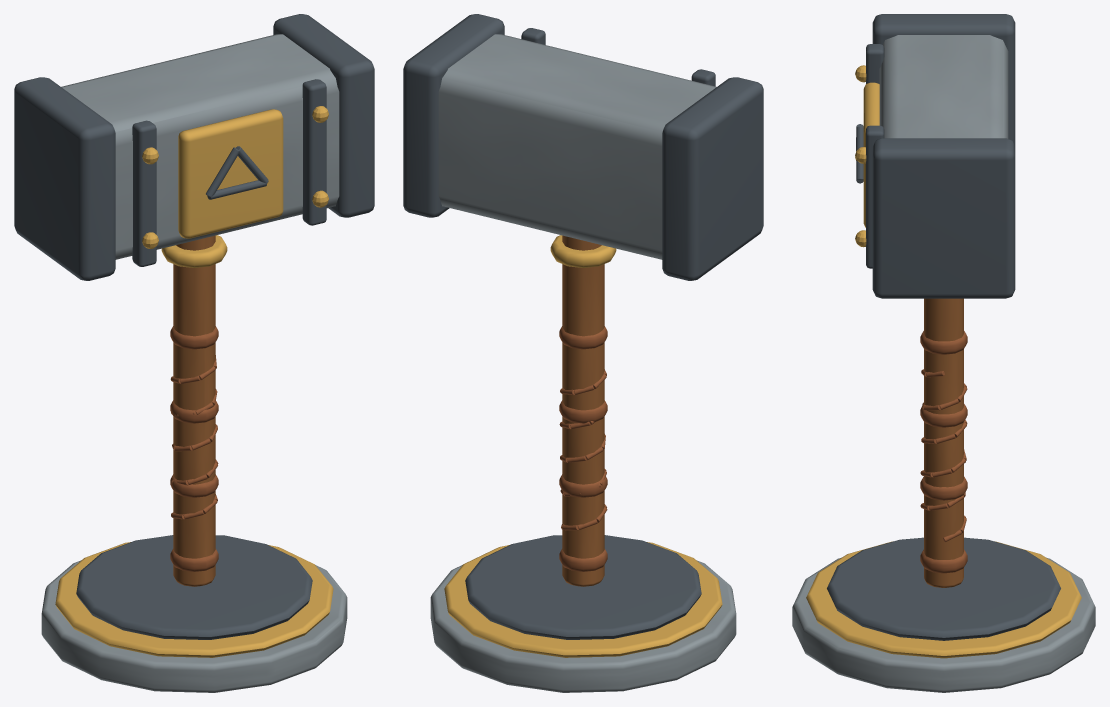
The model's file is kar-hammer.glb.
The picture shows the model from 3 angles, left to right: view 1: azimuth 30°, elevation 25°; view 2: azimuth 150°, elevation 25°; view 3: azimuth 270°, elevation 25°; orthographic projection.
Parts seen in each view (by area): view 1: Hammer / broad mountain stone, Display / raised inset.004, Hammer / dark iron cap, Display / stone base.004, Grip / central shaft.002, Hammer / gold central mount, Hammer / dark iron cap.001, Display / bronze rim.004, Hammer / reinforced iron strap.001, Hammer / reinforced iron strap, Binding / collar.021, Binding / collar.017 (+3 smaller); view 2: Hammer / broad mountain stone, Display / raised inset.004, Hammer / dark iron cap, Display / stone base.004, Grip / central shaft.002, Hammer / dark iron cap.001, Display / bronze rim.004, Binding / collar.021, Binding / collar.017, Binding / collar.020, Binding / collar.019, Binding / collar.018; view 3: Hammer / dark iron cap.001, Display / raised inset.004, Hammer / broad mountain stone, Display / stone base.004, Grip / central shaft.002, Display / bronze rim.004, Hammer / dark iron cap, Hammer / reinforced iron strap.001, Hammer / gold central mount, Binding / collar.020, Binding / collar.017, Binding / collar.018 (+2 smaller).
Part boxes in pixels (left/top/right/bottom): Hammer / broad mountain stone: left=61, top=34, right=339, bottom=259; Display / raised inset.004: left=76, top=535, right=312, bottom=639; Hammer / dark iron cap: left=14, top=77, right=115, bottom=280; Display / stone base.004: left=41, top=560, right=347, bottom=692; Grip / central shaft.002: left=173, top=235, right=215, bottom=586; Hammer / gold central mount: left=178, top=109, right=283, bottom=238; Hammer / dark iron cap.001: left=273, top=14, right=374, bottom=217; Display / bronze rim.004: left=55, top=542, right=333, bottom=657; Hammer / reinforced iron strap.001: left=302, top=79, right=326, bottom=225; Hammer / reinforced iron strap: left=132, top=120, right=156, bottom=266; Binding / collar.021: left=161, top=235, right=227, bottom=267; Binding / collar.017: left=170, top=549, right=218, bottom=571; Hammer / broad mountain stone: left=438, top=34, right=716, bottom=259; Display / raised inset.004: left=465, top=535, right=701, bottom=639; Hammer / dark iron cap: left=662, top=77, right=763, bottom=280; Display / stone base.004: left=430, top=560, right=736, bottom=692; Grip / central shaft.002: left=562, top=235, right=604, bottom=586; Hammer / dark iron cap.001: left=403, top=14, right=504, bottom=217; Display / bronze rim.004: left=444, top=542, right=722, bottom=657; Binding / collar.021: left=550, top=235, right=616, bottom=267; Binding / collar.017: left=559, top=549, right=607, bottom=571; Binding / collar.020: left=559, top=326, right=607, bottom=349; Binding / collar.019: left=559, top=400, right=607, bottom=423; Binding / collar.018: left=559, top=474, right=607, bottom=497; Hammer / dark iron cap.001: left=872, top=138, right=1015, bottom=298; Display / raised inset.004: left=827, top=537, right=1060, bottom=640; Hammer / broad mountain stone: left=879, top=35, right=1008, bottom=138; Display / stone base.004: left=792, top=557, right=1095, bottom=692; Grip / central shaft.002: left=924, top=298, right=963, bottom=587; Display / bronze rim.004: left=806, top=541, right=1081, bottom=658; Hammer / dark iron cap: left=872, top=14, right=1015, bottom=146; Hammer / reinforced iron strap.001: left=866, top=125, right=884, bottom=268; Hammer / gold central mount: left=863, top=82, right=879, bottom=227; Binding / collar.020: left=920, top=331, right=967, bottom=354; Binding / collar.017: left=920, top=549, right=967, bottom=573; Binding / collar.018: left=920, top=476, right=967, bottom=500.
Bounding box in the file's own units: 1.46 × 2.64 × 1.32.
5 materials, 3 textured.
